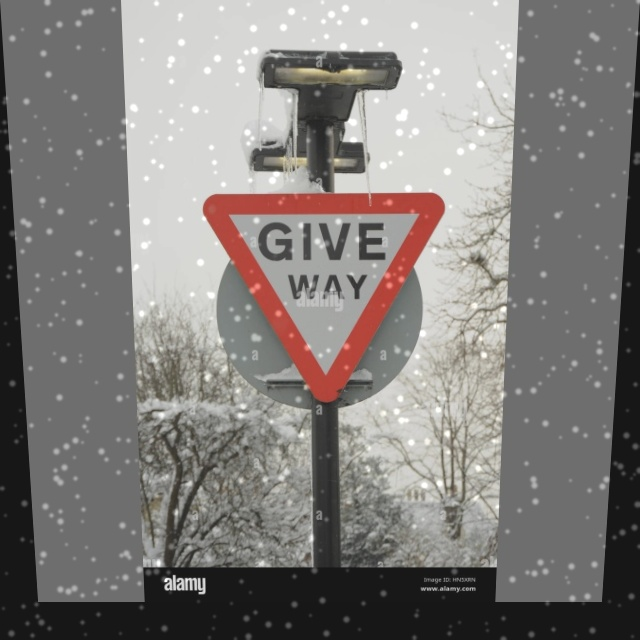Give_Way: (205, 192, 442, 406)
